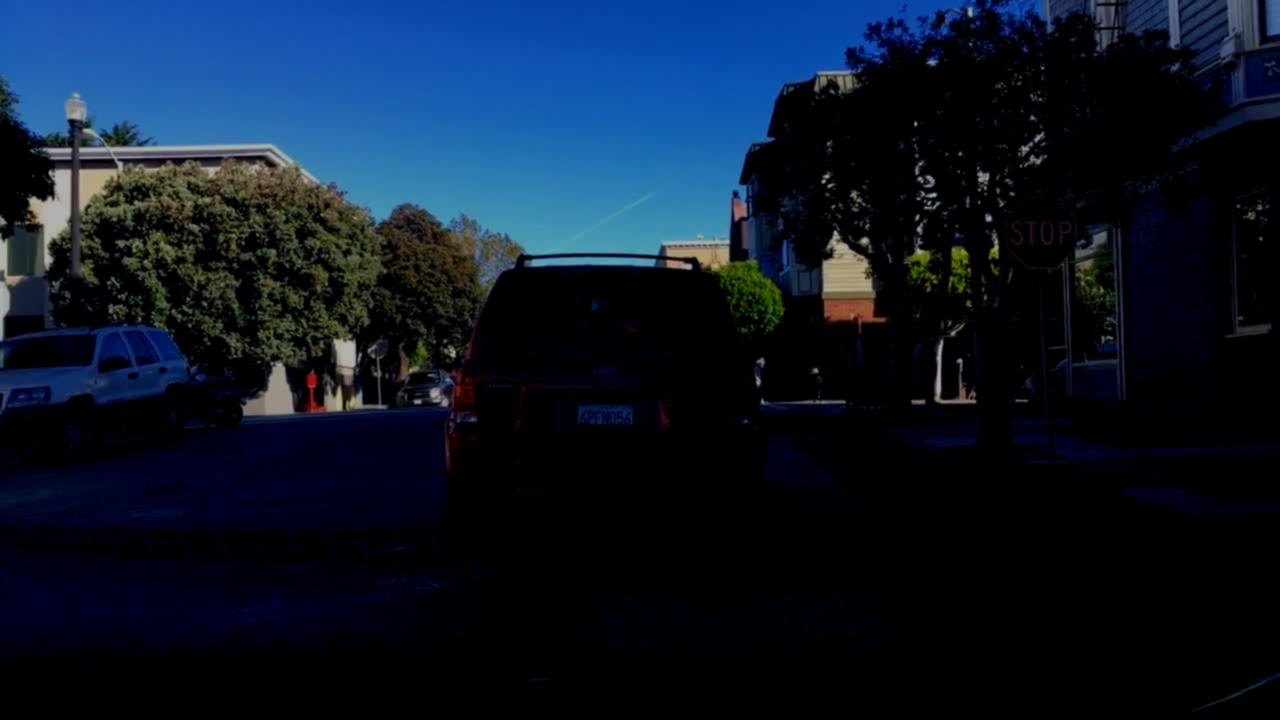ford: (586, 363, 624, 383)
